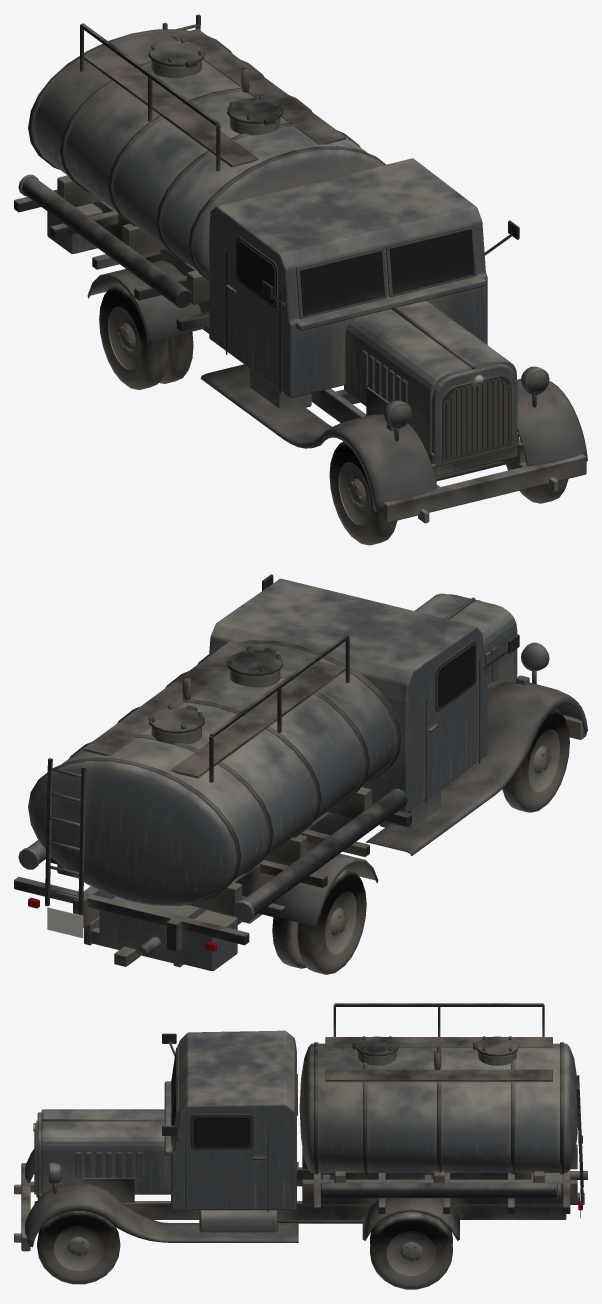
Rendered from truck_grey_tanker.glb.
3 views of the same model, one above another, from view 1: azimuth 30°, elevation 25°; view 2: azimuth 150°, elevation 25°; view 3: azimuth 270°, elevation 25° (orthographic). The views are drawn at different scales.
Visible parts, largest first — view 1: truck_body, wheel_RL, wheel_FL; view 2: truck_body, wheel_RL, wheel_FL; view 3: truck_body, wheel_RR, wheel_FR.
Part boxes in pixels (x1,y1,x2,y2): truck_body: (14,14,587,523); wheel_RL: (99,283,193,389); wheel_FL: (329,441,397,545); truck_body: (14,574,587,971); wheel_RL: (272,868,366,974); wheel_FL: (502,709,569,812); truck_body: (14,1003,587,1251); wheel_RR: (370,1211,452,1289); wheel_FR: (37,1211,120,1284).
Size of the model in its own units: 2.39 by 2.65 by 6.21.
Materials: 1 (1 with a texture image).
